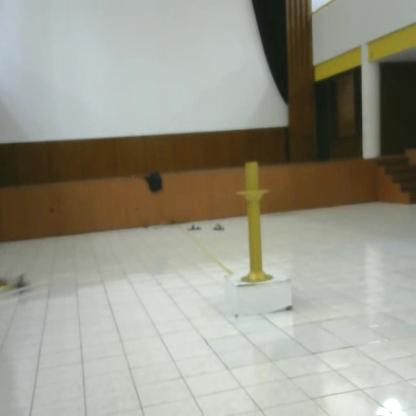pole: (234, 159, 277, 291)
